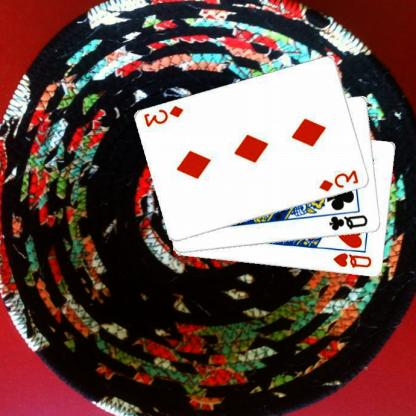3D: (318, 167, 362, 193), (143, 103, 187, 129)
QC: (328, 213, 370, 232)
QH: (333, 250, 375, 270)
